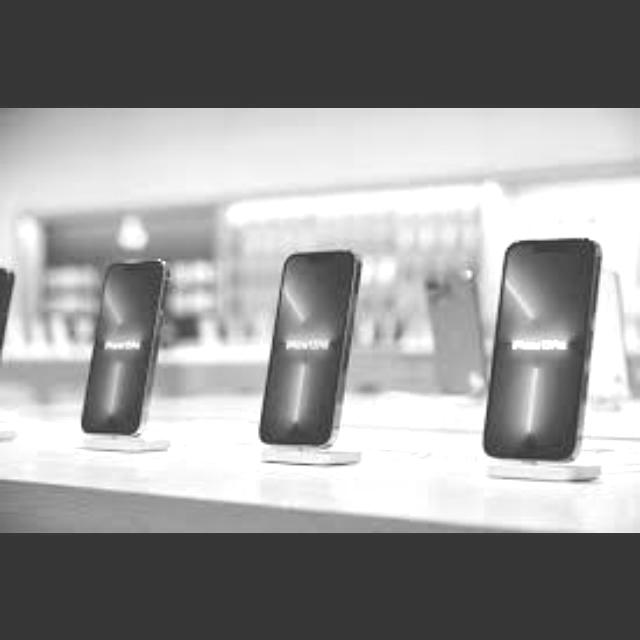fake: (478, 238, 595, 464), (82, 246, 182, 452), (263, 250, 356, 452)
